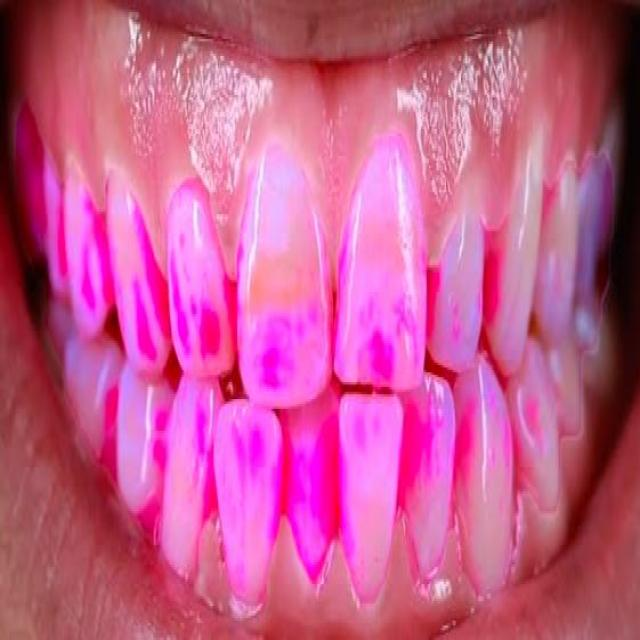1st Molar: (7, 105, 43, 258), (572, 295, 618, 402)
1st Premolar: (507, 338, 563, 518), (63, 156, 116, 336), (535, 161, 581, 343), (118, 372, 170, 514)
2nd Premolar: (64, 336, 123, 475), (39, 148, 67, 295), (545, 343, 588, 438)
Canine: (454, 363, 516, 601), (484, 129, 544, 372), (105, 170, 172, 377), (157, 373, 218, 579)
Central Incisor: (332, 117, 429, 394), (238, 134, 333, 409), (338, 397, 405, 603), (276, 382, 341, 589)
Lateral Incisor: (212, 397, 284, 613), (165, 178, 236, 377), (402, 375, 457, 587), (429, 200, 485, 375)
